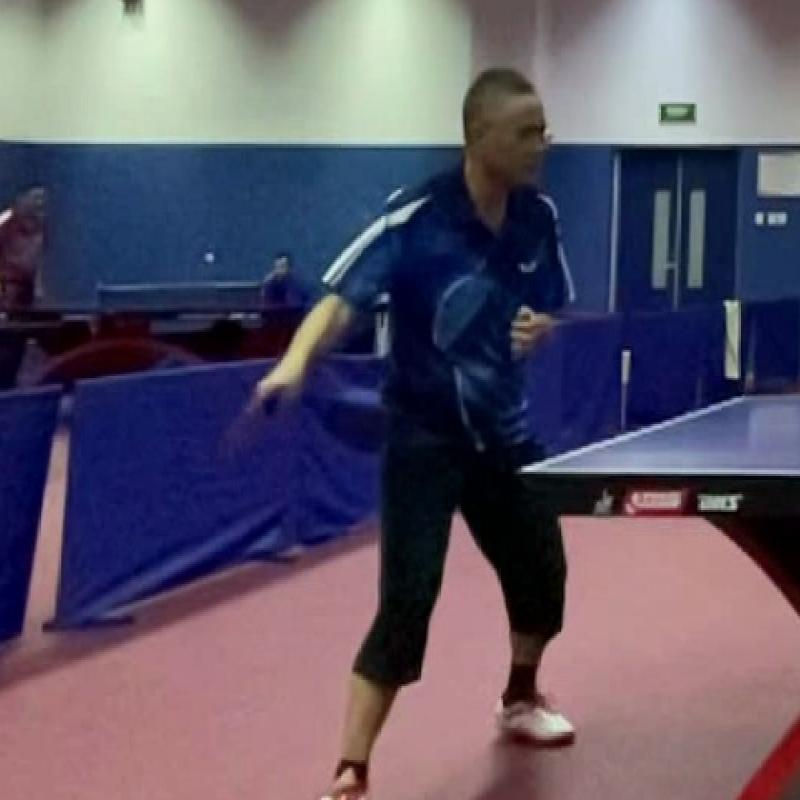bats: (220, 362, 312, 460)
